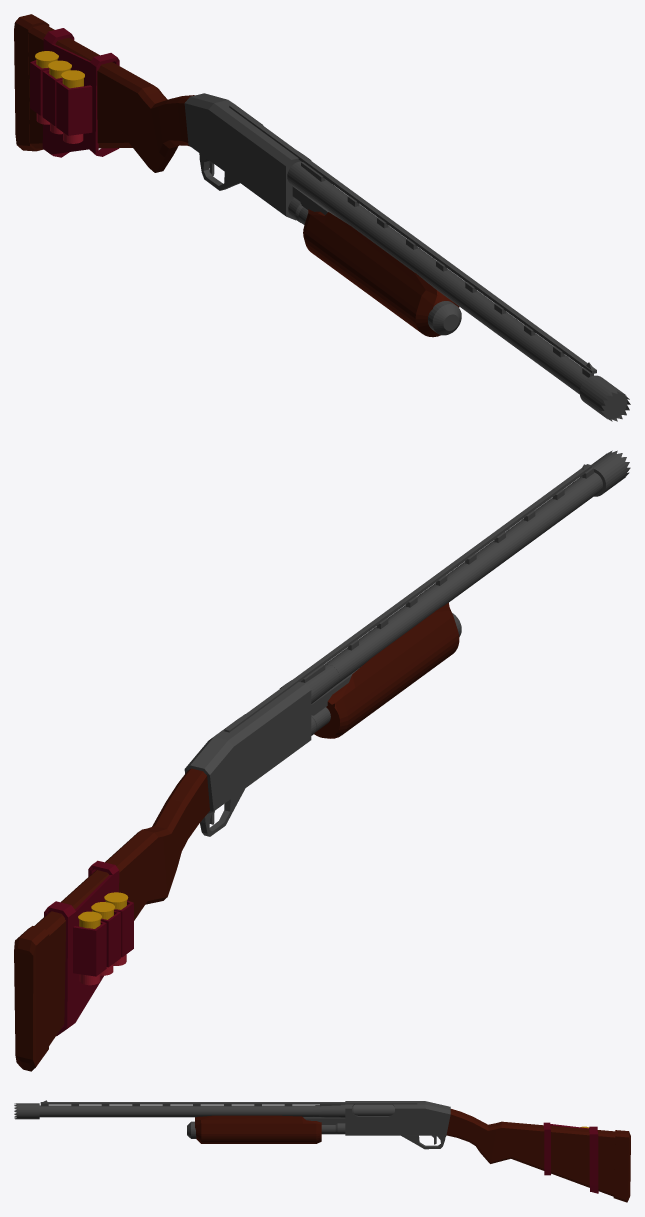
The model's file is shotgun.fbx.
3 views of the same model, one above another, from view 1: azimuth 30°, elevation 25°; view 2: azimuth 150°, elevation 25°; view 3: azimuth 270°, elevation 25° (orthographic). The views are drawn at different scales.
Parts seen in each view (by area): view 1: Cube.013, Cube, Cylinder, Circle, Plane, Cube.002, Cube.014, Cylinder.004, Cylinder.006, Cylinder.003, Cylinder.002; view 2: Cube.013, Cube, Cylinder, Circle, Plane, Cube.014, Cube.002, Cylinder.006, Cylinder.004; view 3: Cube.013, Circle, Cylinder, Cube, Cube.002, Cube.014, Cylinder.004, Sphere, Cylinder.002, Cylinder.001, Cube.001.
Part boxes in pixels (bbox=[...]): Cube.013: bbox=[14, 14, 194, 172]; Cube: bbox=[184, 93, 311, 220]; Cylinder: bbox=[319, 186, 587, 393]; Circle: bbox=[303, 209, 459, 337]; Plane: bbox=[30, 60, 92, 135]; Cube.002: bbox=[229, 104, 596, 374]; Cube.014: bbox=[42, 28, 119, 157]; Cylinder.004: bbox=[561, 367, 630, 421]; Cylinder.006: bbox=[35, 51, 84, 143]; Cylinder.003: bbox=[428, 301, 461, 335]; Cylinder.002: bbox=[287, 161, 334, 205]; Cube.013: bbox=[14, 768, 209, 1071]; Cube: bbox=[184, 680, 311, 836]; Cylinder: bbox=[324, 473, 601, 683]; Circle: bbox=[314, 602, 459, 738]; Plane: bbox=[73, 900, 133, 976]; Cube.014: bbox=[44, 860, 119, 1036]; Cube.002: bbox=[224, 464, 591, 732]; Cylinder.006: bbox=[78, 892, 128, 985]; Cylinder.004: bbox=[578, 450, 630, 507]; Cube.013: bbox=[446, 1109, 630, 1202]; Circle: bbox=[195, 1115, 321, 1143]; Cylinder: bbox=[40, 1105, 313, 1117]; Cube: bbox=[345, 1101, 450, 1149]; Cube.002: bbox=[40, 1100, 417, 1104]; Cube.014: bbox=[543, 1122, 598, 1193]; Cylinder.004: bbox=[14, 1103, 62, 1119]; Sphere: bbox=[352, 1104, 394, 1115]; Cylinder.002: bbox=[313, 1104, 345, 1117]; Cylinder.001: bbox=[321, 1123, 345, 1134]; Cube.001: bbox=[303, 1117, 345, 1124].
Bounding box in the file's own units: 251 × 854 × 4685.
